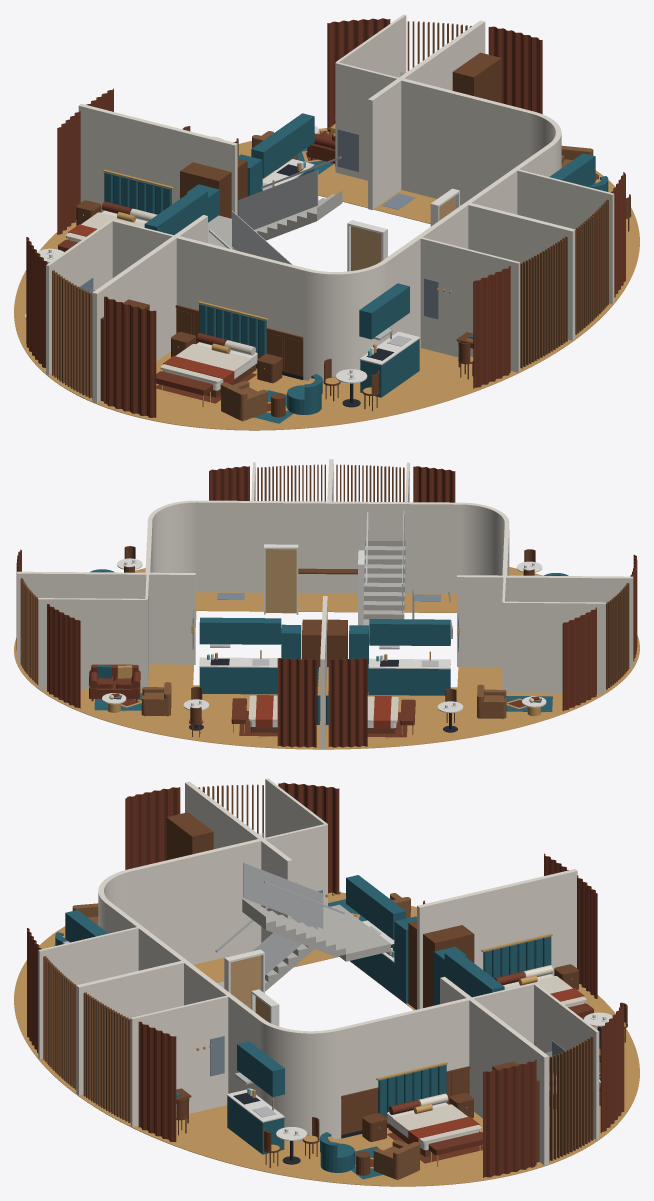
3 views of the same model, one above another, from view 1: azimuth 30°, elevation 25°; view 2: azimuth 150°, elevation 25°; view 3: azimuth 270°, elevation 25° (orthographic). The views are drawn at different scales.
Visible parts, largest first — view 1: Muros, Mobiliario, Elementos genéricos, Pisos, Carpintería, Barandales, Puertas, Escaleras, Equipo especial; view 2: Muros, Mobiliario, Pisos, Carpintería, Elementos genéricos, Escaleras, Puertas, Equipo especial, Barandales; view 3: Muros, Mobiliario, Elementos genéricos, Carpintería, Pisos, Escaleras, Barandales, Puertas, Equipo especial.
Part boxes in pixels (x1,y1,x2,y2): Muros: [46, 14, 614, 402]; Mobiliario: [25, 18, 631, 425]; Elementos genéricos: [52, 21, 608, 398]; Pisos: [14, 128, 639, 430]; Carpintería: [100, 52, 595, 401]; Barandales: [209, 156, 341, 264]; Puertas: [347, 188, 459, 271]; Escaleras: [208, 190, 342, 250]; Equipo especial: [186, 154, 262, 222]; Muros: [17, 459, 633, 748]; Mobiliario: [16, 466, 637, 747]; Pisos: [14, 567, 639, 749]; Carpintería: [199, 617, 450, 695]; Elementos genéricos: [20, 464, 629, 689]; Escaleras: [363, 540, 452, 643]; Puertas: [264, 544, 364, 625]; Equipo especial: [281, 624, 368, 695]; Barandales: [365, 510, 450, 619]; Muros: [38, 778, 599, 1165]; Mobiliario: [27, 782, 627, 1180]; Elementos genéricos: [43, 784, 593, 1161]; Carpintería: [62, 812, 556, 1162]; Pisos: [14, 892, 639, 1186]; Escaleras: [217, 899, 390, 991]; Barandales: [215, 862, 344, 975]; Puertas: [224, 949, 279, 1026]; Equipo especial: [394, 916, 466, 1005].
Size of the model in its own units: 17.39 by 4.03 by 15.33.
